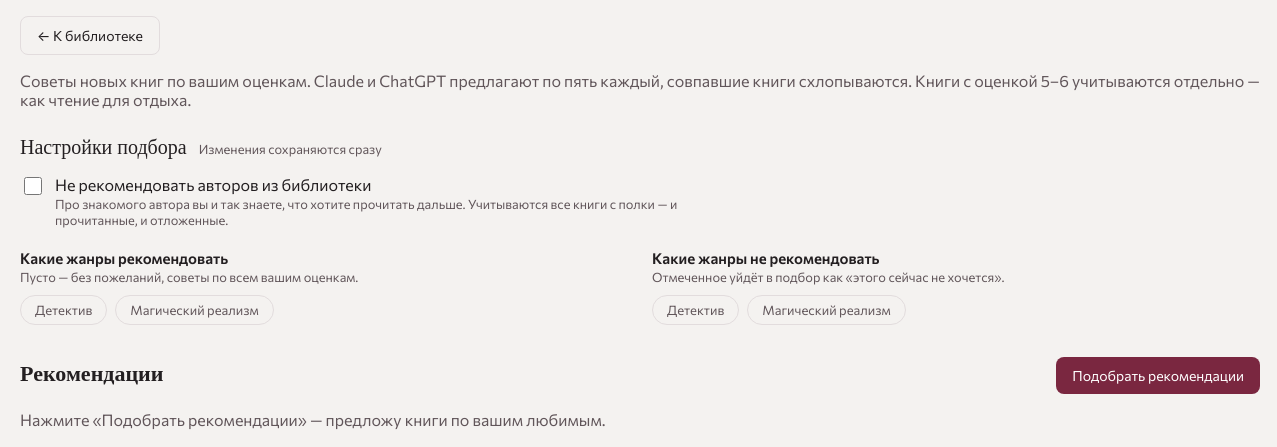
жанр нельзя выбрать сразу в оба списка
Check: the text "Какие жанры рекомендовать" is shown, box x1=20 y1=249 x2=228 y2=267
Click the button "Детектив" below "Какие жанры рекомендовать" at (64, 310), box x1=20 y1=295 x2=107 y2=325
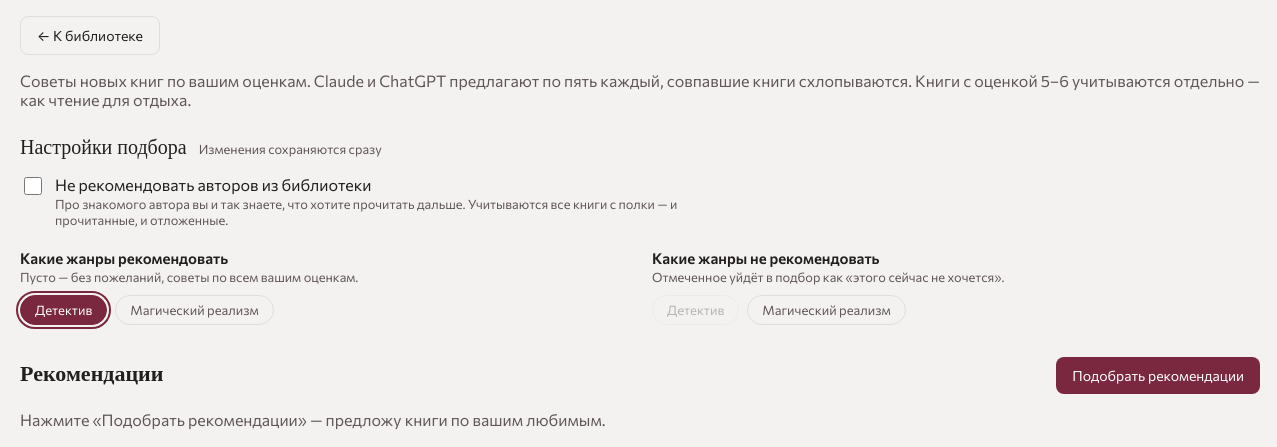
Check: the button "Магический реализм" below "Какие жанры не рекомендовать" is enabled, box x1=747 y1=295 x2=906 y2=325
Check: the button "Детектив" below "Какие жанры не рекомендовать" is disabled, box x1=652 y1=295 x2=739 y2=325
